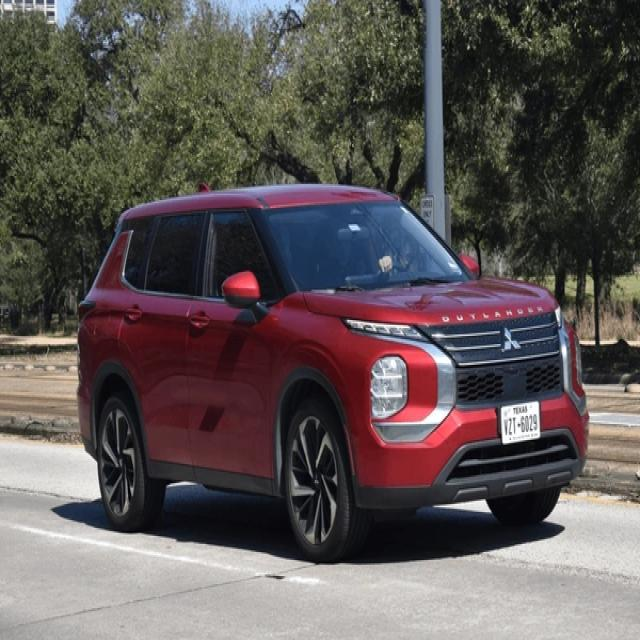mitsubishi: (499, 324, 524, 358)
